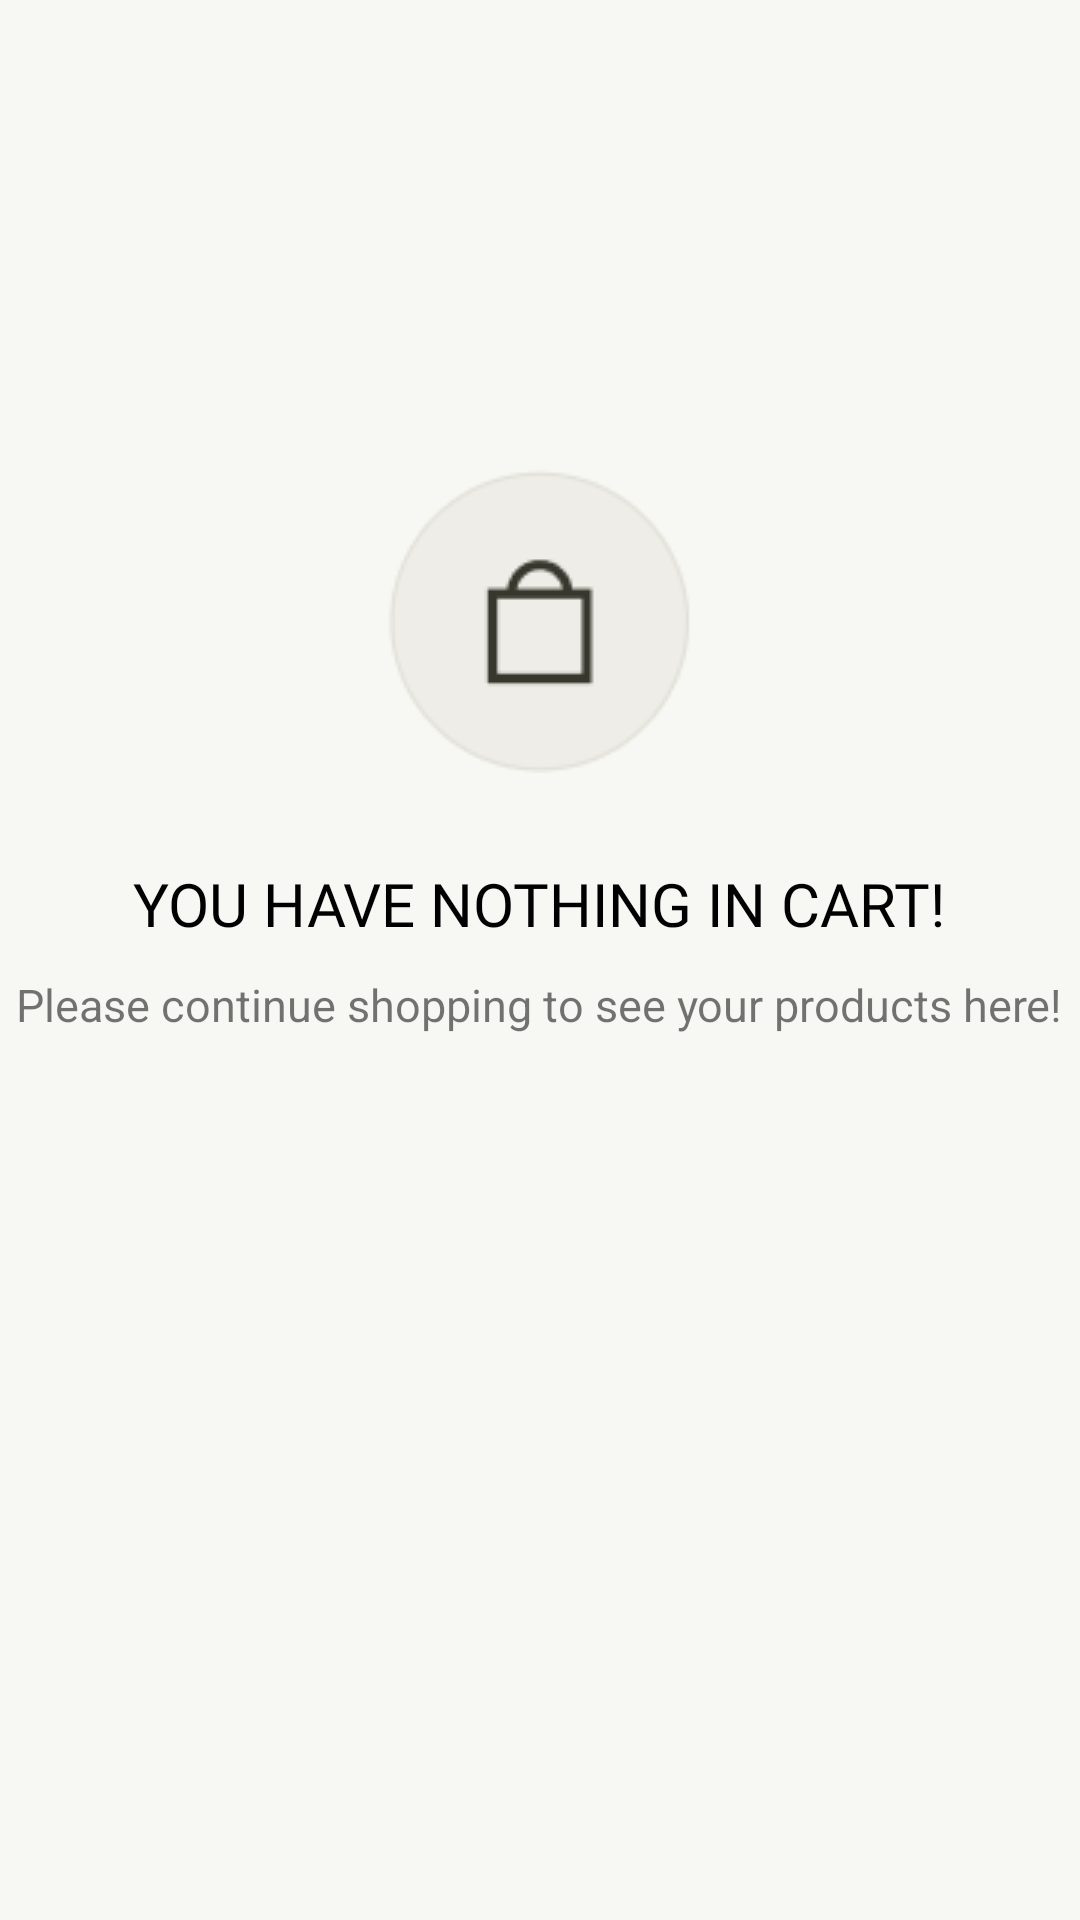

Screen size 1080*1920. Icon name, then its box in pixels as box=[x1, y1, x2, y2]:
imgmybag: box=[389, 472, 690, 773]
